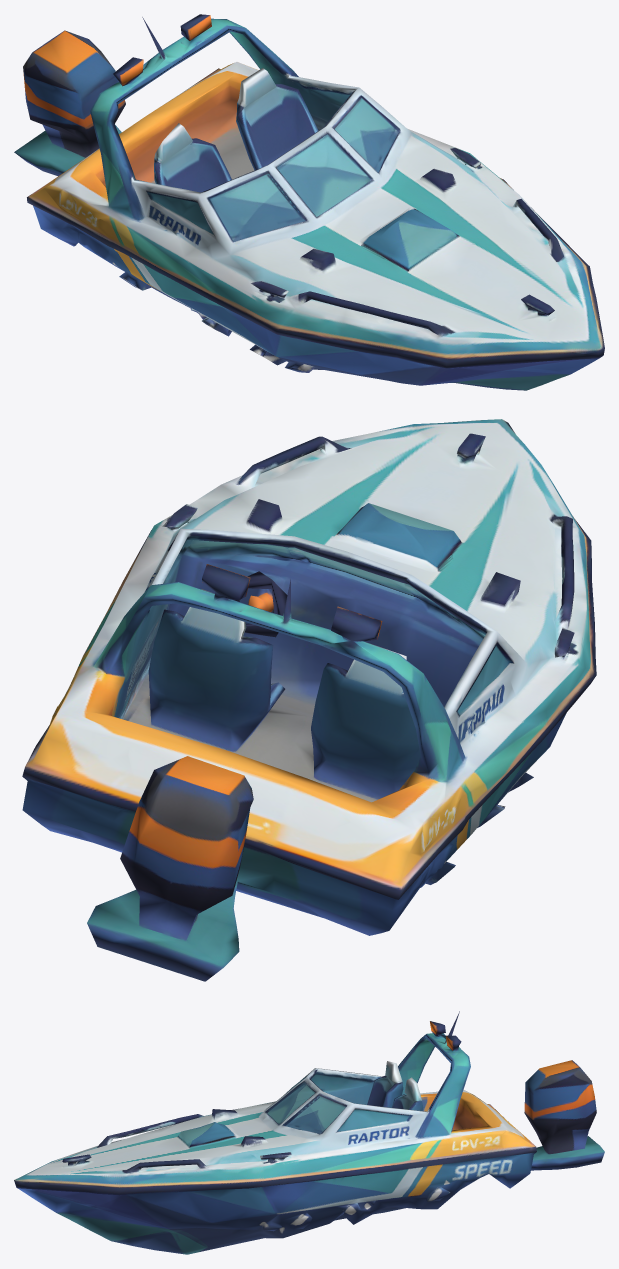
The model's file is player-boat.glb.
3 views of the same model, one above another, from view 1: azimuth 30°, elevation 25°; view 2: azimuth 150°, elevation 25°; view 3: azimuth 270°, elevation 25° (orthographic). The views are drawn at different scales.
Parts seen in each view (by area): view 1: tripo_node_479b0737-42fe-4b0e-927c-be96aaa71842; view 2: tripo_node_479b0737-42fe-4b0e-927c-be96aaa71842; view 3: tripo_node_479b0737-42fe-4b0e-927c-be96aaa71842.
Part boxes in pixels (x1,y1,x2,y2): tripo_node_479b0737-42fe-4b0e-927c-be96aaa71842: [14, 14, 604, 390]; tripo_node_479b0737-42fe-4b0e-927c-be96aaa71842: [22, 419, 596, 981]; tripo_node_479b0737-42fe-4b0e-927c-be96aaa71842: [14, 1011, 604, 1254].
Bounding box in the file's own units: 0.464 × 0.3642 × 0.9935.
1 material, 1 textured.
